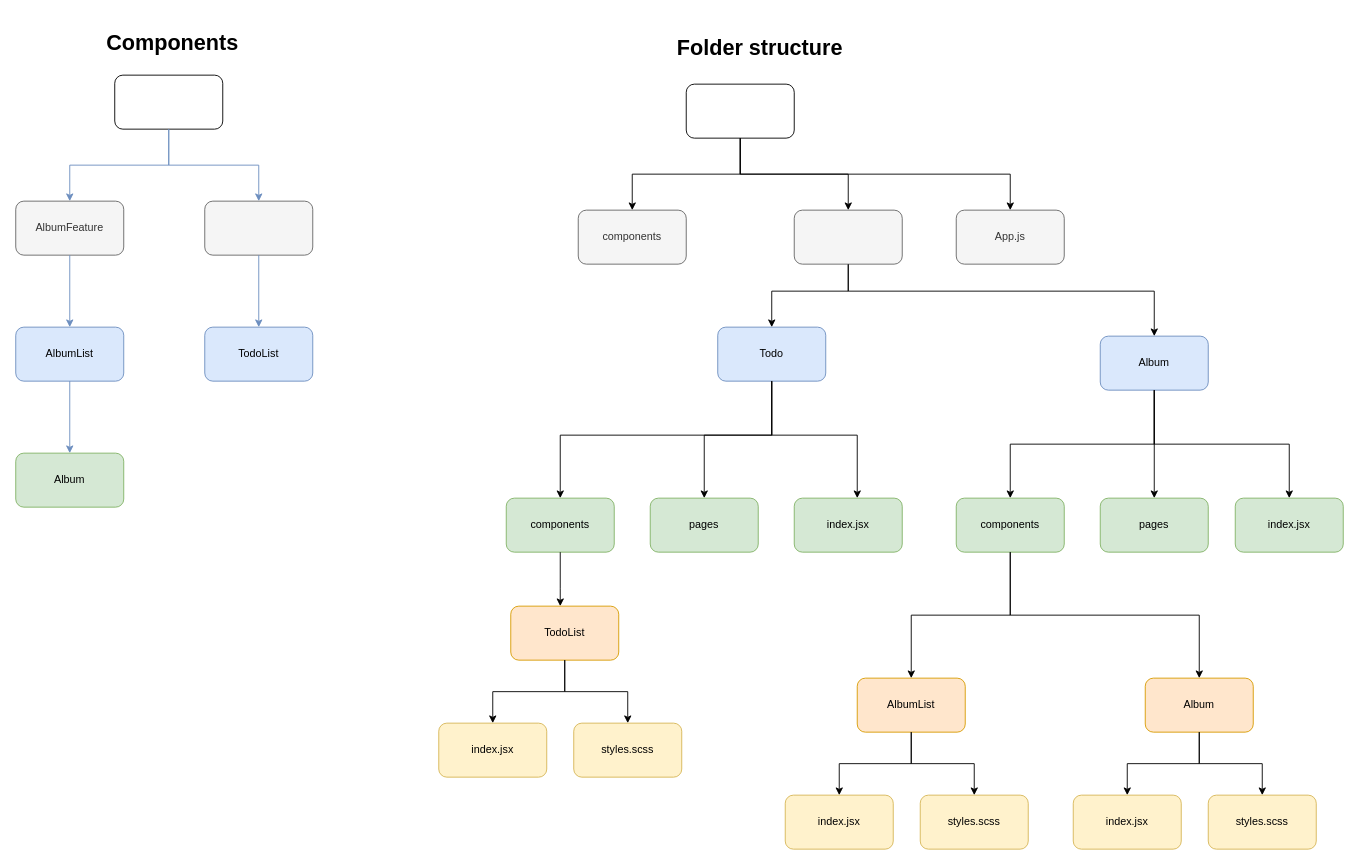
Image size: 1359x865. Some labels were removed from this diagram. Each missing label, with the box of its shape:
App: (114, 74, 223, 129)
features: (793, 209, 902, 264)
src: (685, 83, 794, 138)
TodoFeature: (204, 200, 313, 255)
